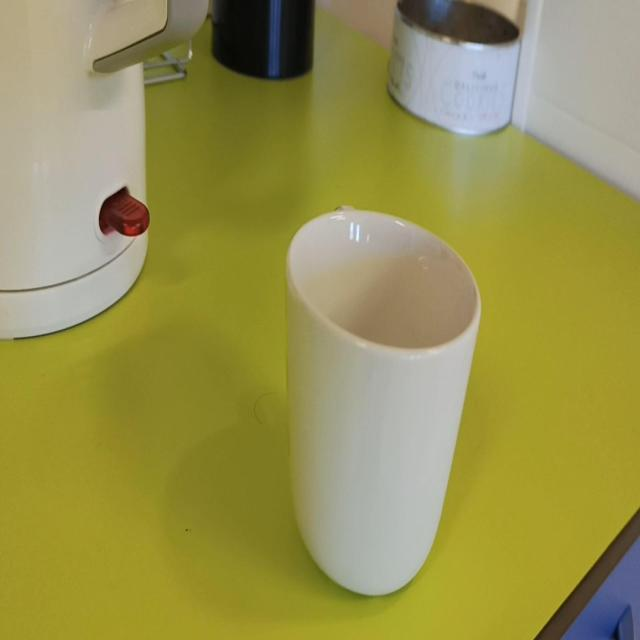cup: (255, 174, 488, 621)
